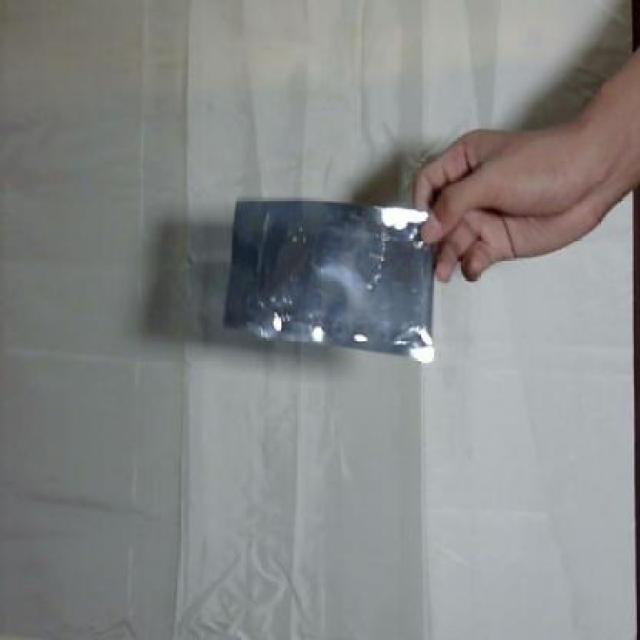Plastic: (224, 197, 438, 365)
